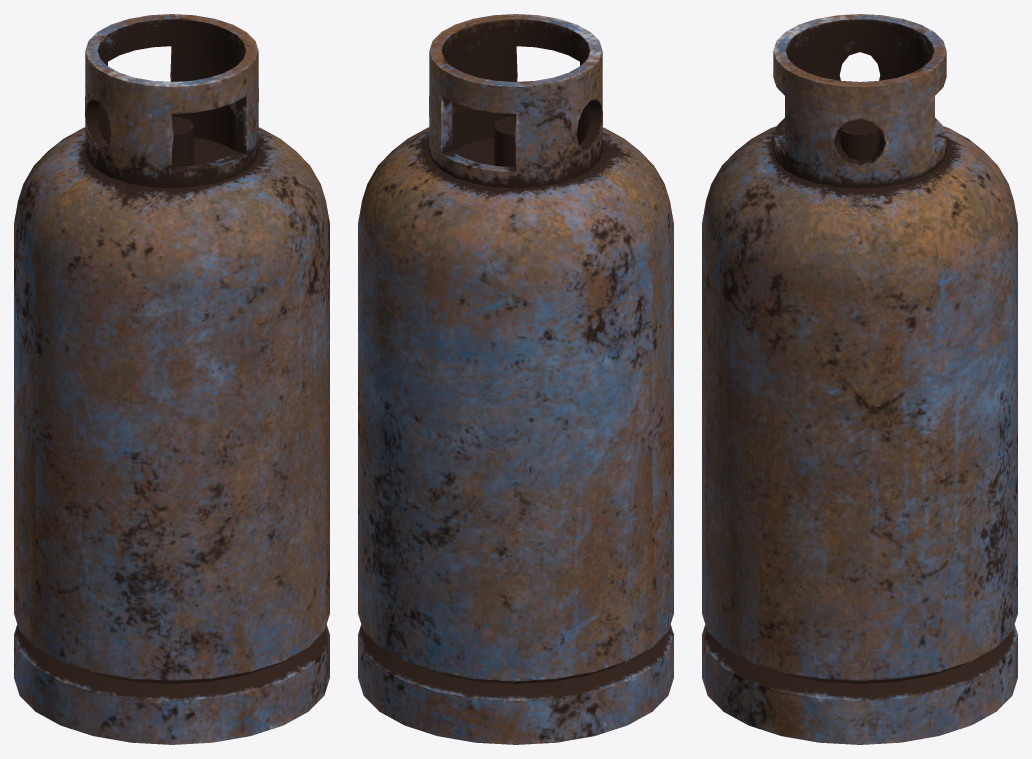
File: Component_GasA_grp.fbx
3 views of the same model, side by side, from view 1: azimuth 30°, elevation 25°; view 2: azimuth 150°, elevation 25°; view 3: azimuth 270°, elevation 25° (orthographic).
Visible parts, largest first — view 1: gasA_cans; view 2: gasA_cans; view 3: gasA_cans.
Part boxes in pixels (bbox=[...]): gasA_cans: bbox=[14, 14, 329, 744]; gasA_cans: bbox=[358, 14, 673, 744]; gasA_cans: bbox=[702, 14, 1017, 744].
Size of the model in its own units: 37.5 by 82.27 by 37.5.
